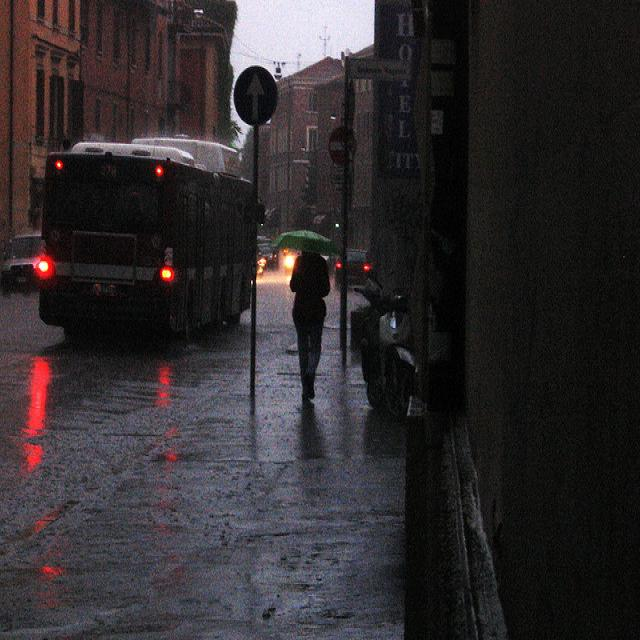Bus: (41, 103, 263, 351)
Motorbike: (355, 267, 428, 427)
People: (267, 223, 337, 426)
car: (0, 219, 51, 322), (336, 236, 385, 300)
